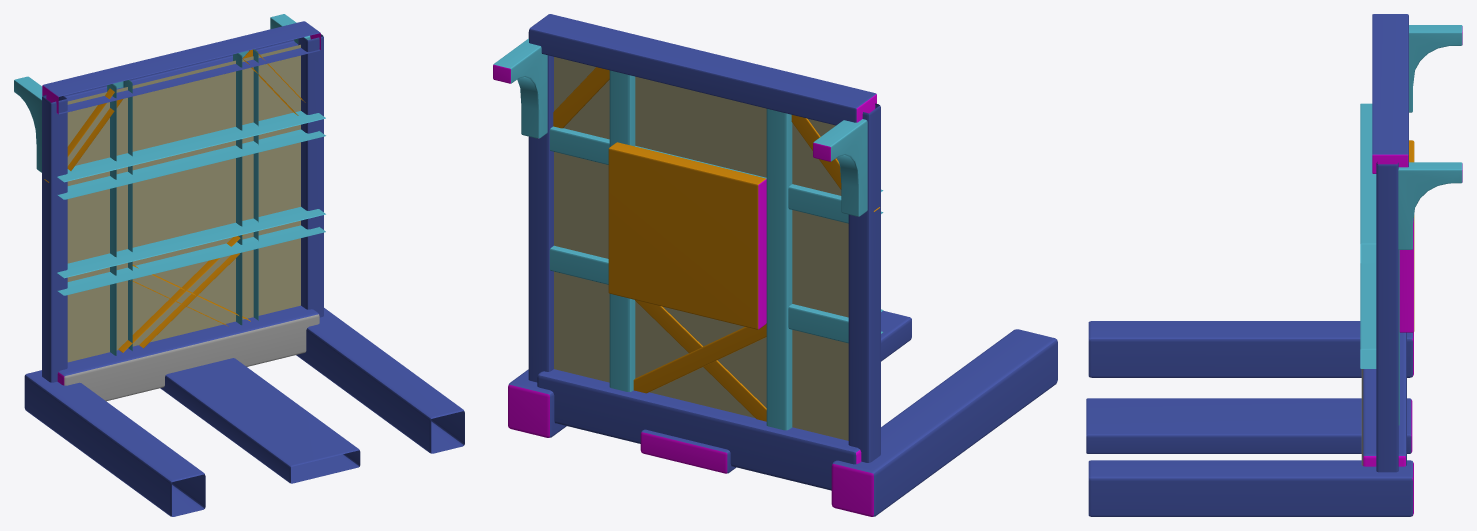
The model's file is SM_Hous2Front_2Floor.fbx.
3 renders of one model, left to right at view 1: azimuth 30°, elevation 25°; view 2: azimuth 150°, elevation 25°; view 3: azimuth 270°, elevation 25°, orthographic. The views are drawn at different scales.
Parts seen in each view (by area): view 1: SM_Hous2Front_2Floor; view 2: SM_Hous2Front_2Floor; view 3: SM_Hous2Front_2Floor.
Boxes of the visible parts, x1,y1,x2,y2 form: SM_Hous2Front_2Floor: (14,14,464,516); SM_Hous2Front_2Floor: (493,14,1057,516); SM_Hous2Front_2Floor: (1086,14,1462,516).
Size of the model in its own units: 3.33 by 3.49 by 3.35.
